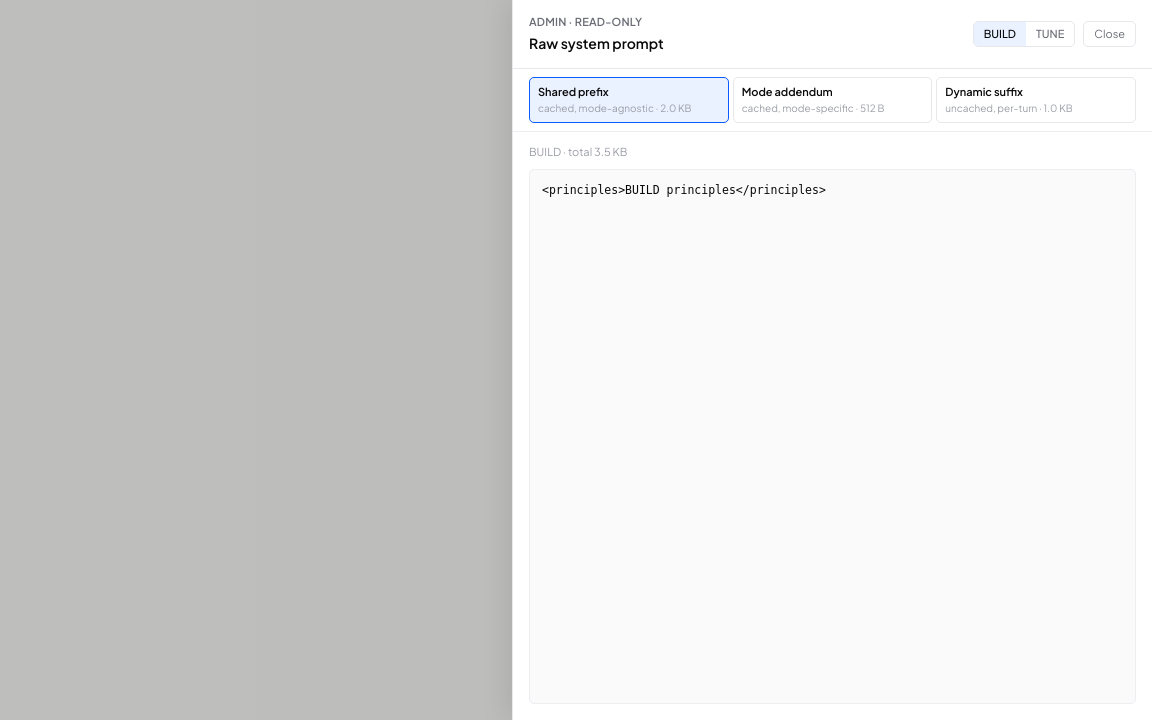
Test: RawPromptDrawer › swaps the visible region when a tab is clicked
Expected: the text "<principles>BUILD principles</principles>" is shown, [529,168,1136,704]
Click the text "Dynamic suffix" at (984, 92), box [945,84,1023,100]
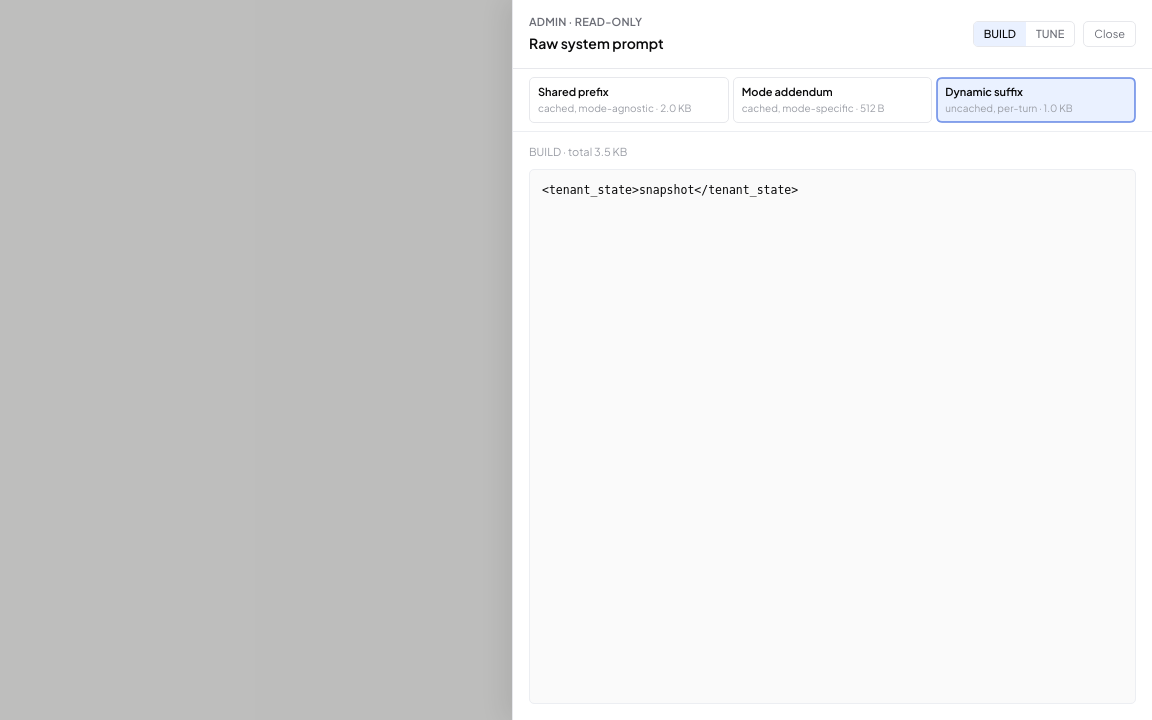
Result: the text "<tenant_state>snapshot</tenant_state>" is shown at [529,168,1136,704]
